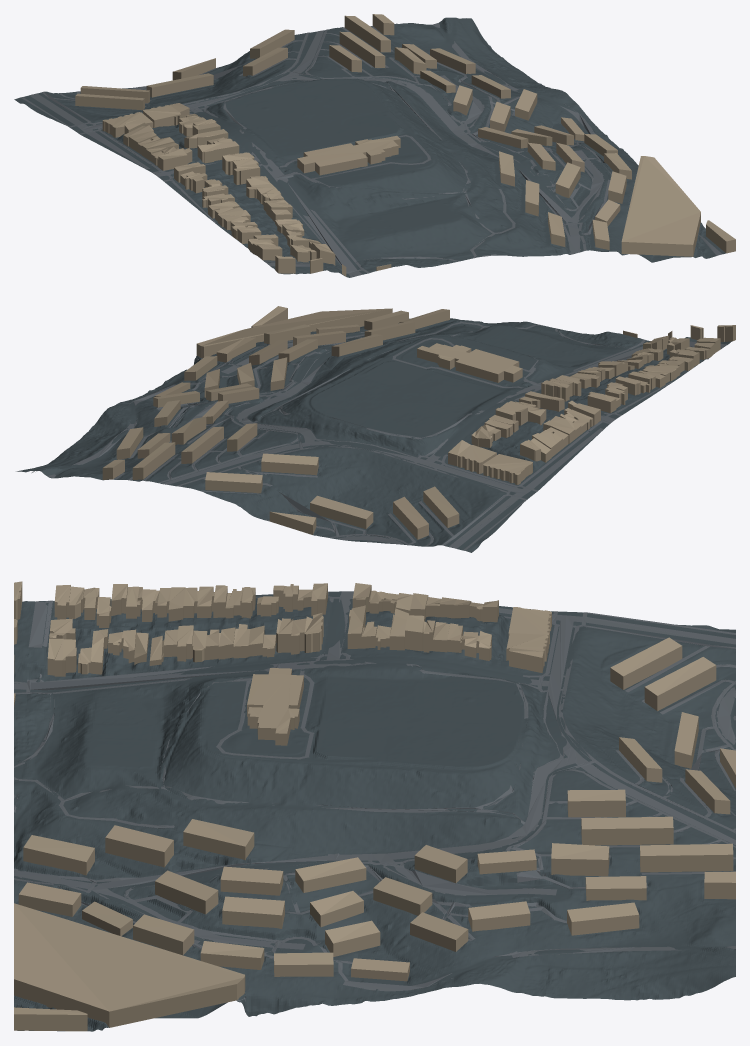
File: epsg26910-1440-10882.lod0.glb
The picture shows the model from 3 angles, top to bottom: view 1: azimuth 30°, elevation 25°; view 2: azimuth 150°, elevation 25°; view 3: azimuth 270°, elevation 25°; orthographic projection. The views are drawn at different scales.
Visible parts, largest first — view 1: epsg26910-1440-10882-lod0; view 2: epsg26910-1440-10882-lod0; view 3: epsg26910-1440-10882-lod0.
Part boxes in pixels (x1,y1,x2,y2): epsg26910-1440-10882-lod0: (14,14,735,277); epsg26910-1440-10882-lod0: (16,306,735,552); epsg26910-1440-10882-lod0: (14,581,735,1031).
Size of the model in its own units: 384 by 90.28 by 384.
